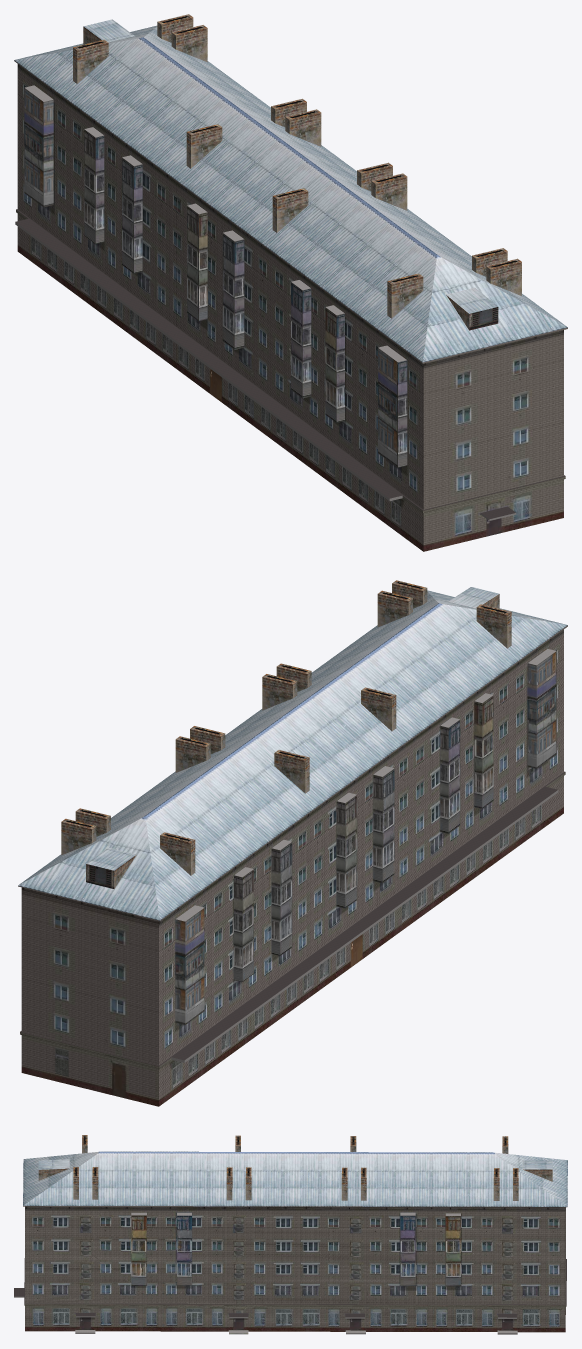
Rendered from panel1.fbx.
3 renders of one model, top to bottom at view 1: azimuth 30°, elevation 25°; view 2: azimuth 150°, elevation 25°; view 3: azimuth 270°, elevation 25°, orthographic. The views are drawn at different scales.
Parts seen in each view (by area): view 1: C-house; view 2: C-house; view 3: C-house.
Part boxes in pixels (x1,y1,x2,y2): C-house: (14,14,567,551); C-house: (18,580,567,1106); C-house: (14,1135,567,1334).
Bounding box in the file's own units: 1586 × 2145 × 6849.
Materials: 9 (9 with a texture image).
